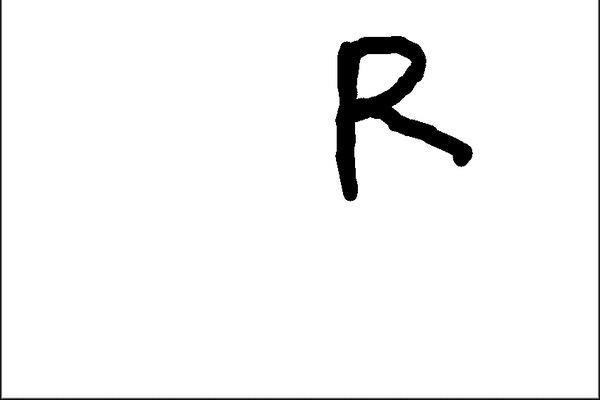R: (323, 24, 488, 205)
